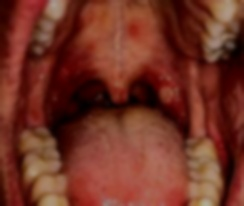Ulcer: (161, 84, 174, 109)
